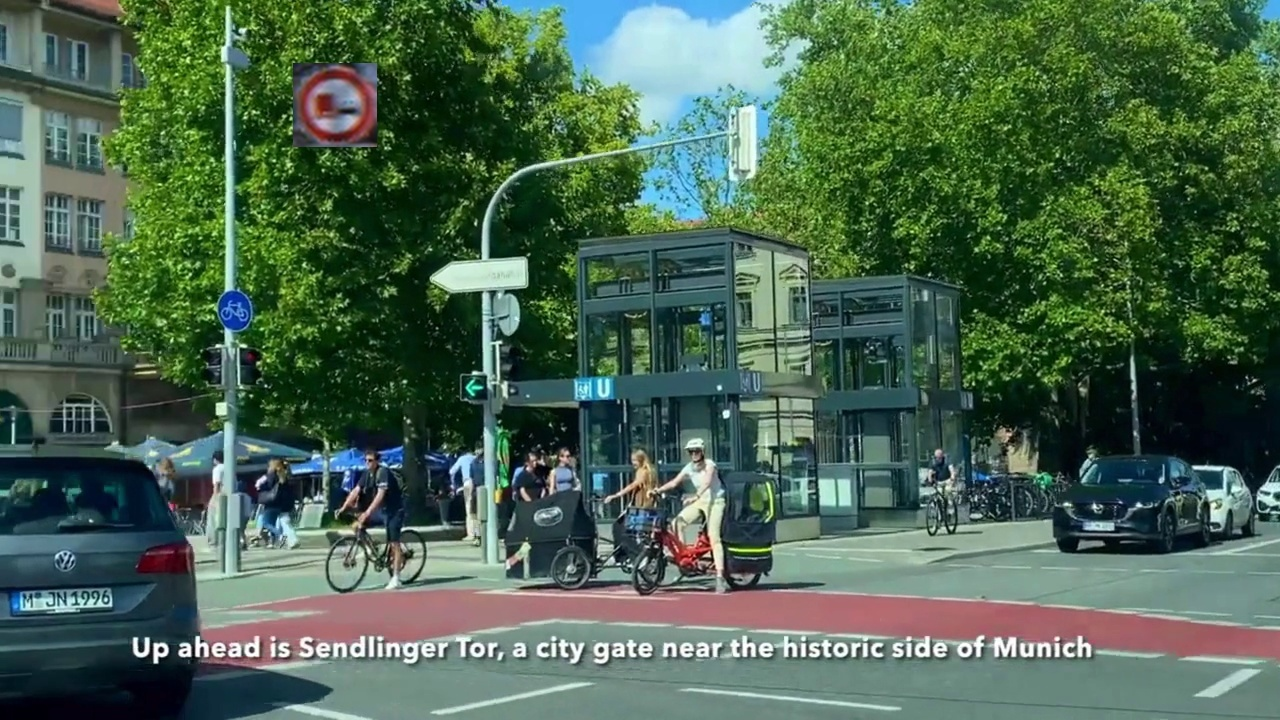No pass >3.5t: (293, 63, 377, 147)
